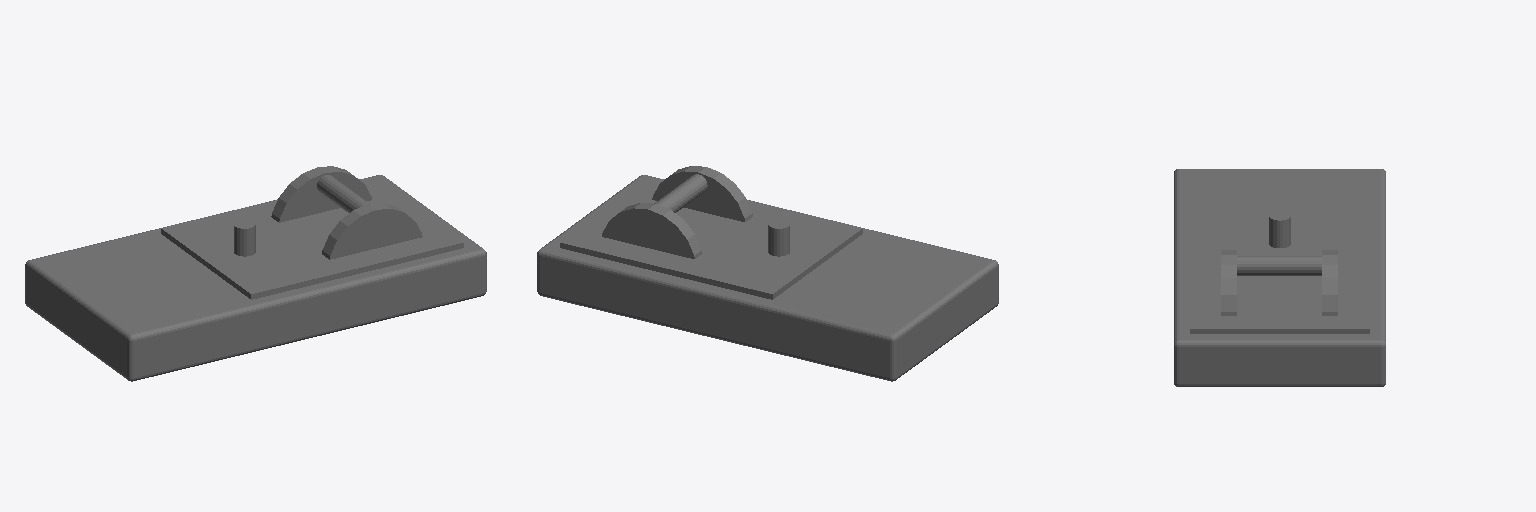
The model's file is telegraphBase.obj.
3 renders of one model, left to right at view 1: azimuth 30°, elevation 25°; view 2: azimuth 150°, elevation 25°; view 3: azimuth 270°, elevation 25°, orthographic.
Parts seen in each view (by area): view 1: polySurface211 telegraph1; view 2: polySurface211 telegraph1; view 3: polySurface211 telegraph1.
Part boxes in pixels (x1,y1,x2,y2): polySurface211 telegraph1: (25, 166, 486, 381); polySurface211 telegraph1: (537, 166, 998, 381); polySurface211 telegraph1: (1174, 169, 1385, 386).
Size of the model in its own units: 2 by 0.4846 by 1.03.